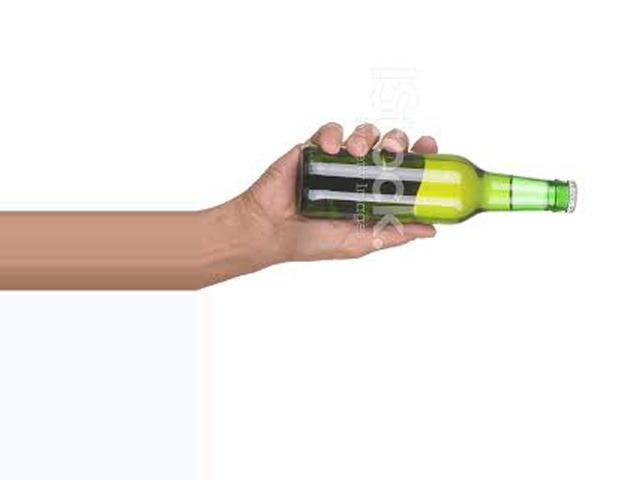beer: (297, 151, 576, 226)
